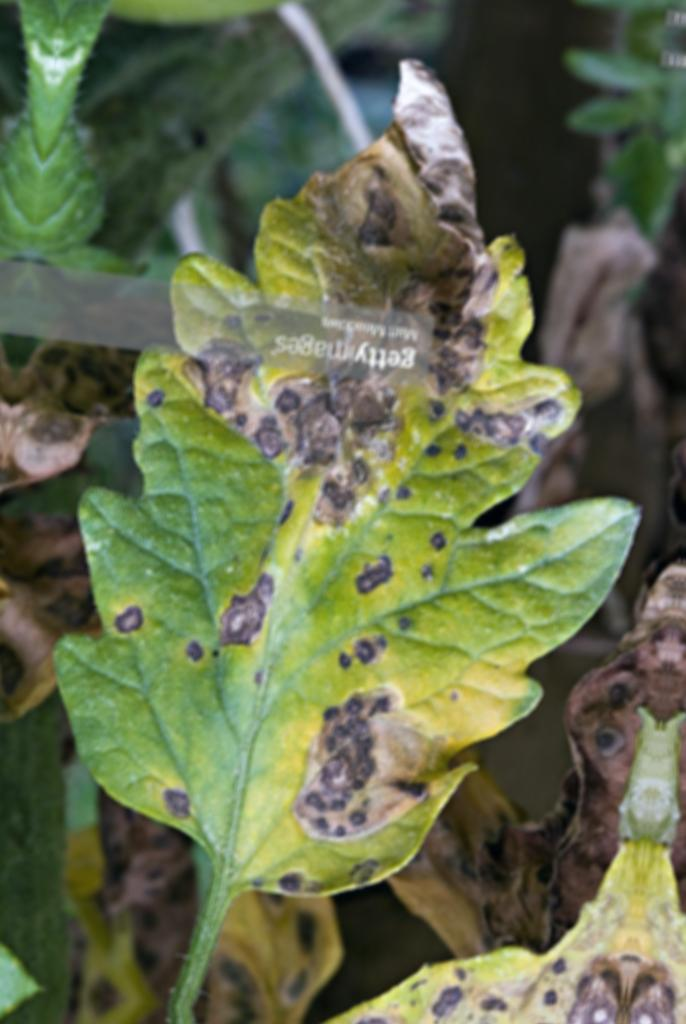Tomato Septoria leaf spot: (28, 41, 686, 957)
